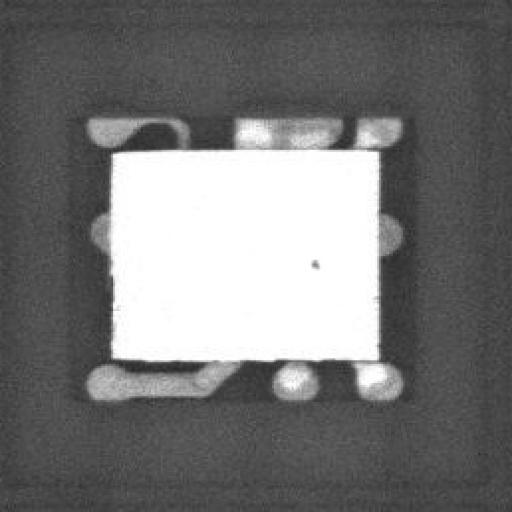DIE_INK: (292, 266, 307, 282)
